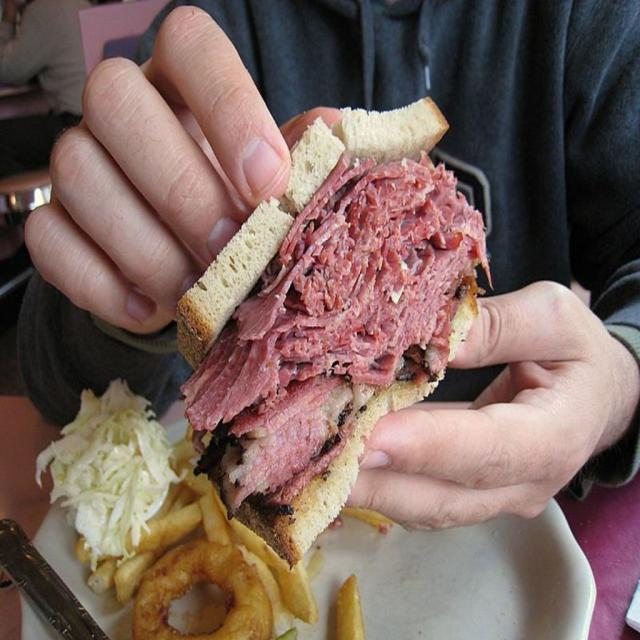Sandwich: (173, 104, 479, 570)
